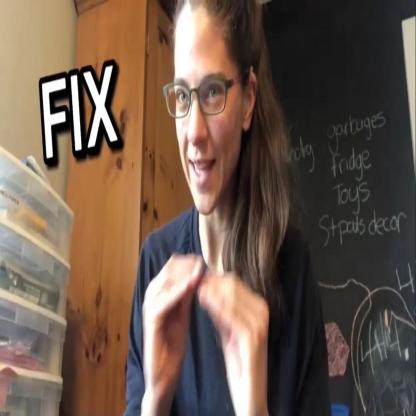Fix: (141, 252, 272, 416)
